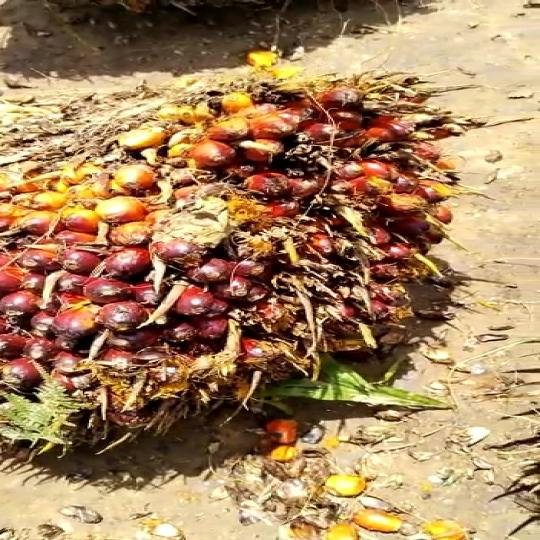masak: (0, 66, 483, 487)
